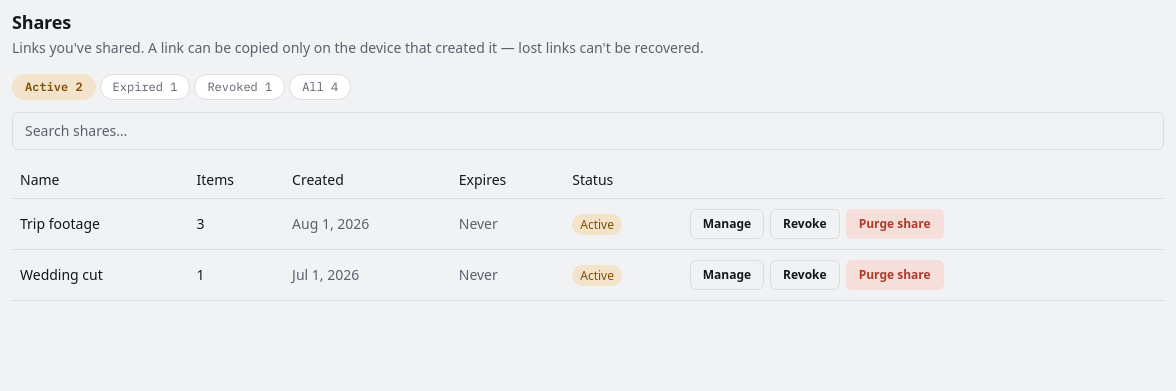
Test case: SharesSection › scopes chip counts to the current search query
Check: the text "Trip footage" is shown, box [12,198,188,249]
Check: the button "Active 2" is shown, box [12,74,96,100]
# "share" matches only the two past shares — counts follow the query.
In the search field labelled "Search shares…": (588, 131) [12,112,1164,150], type "share"
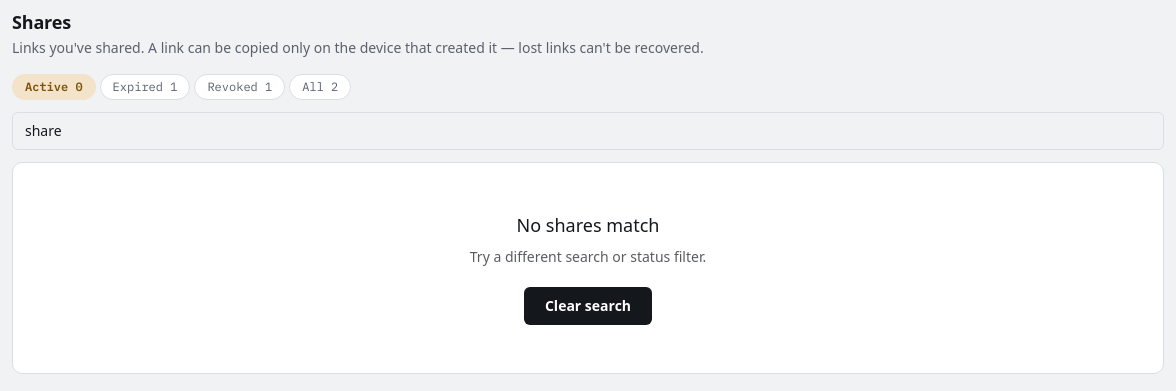
Check: the button "Active 0" is shown, box [12,74,96,100]
Check: the button "All 2" is shown, box [289,74,351,100]
